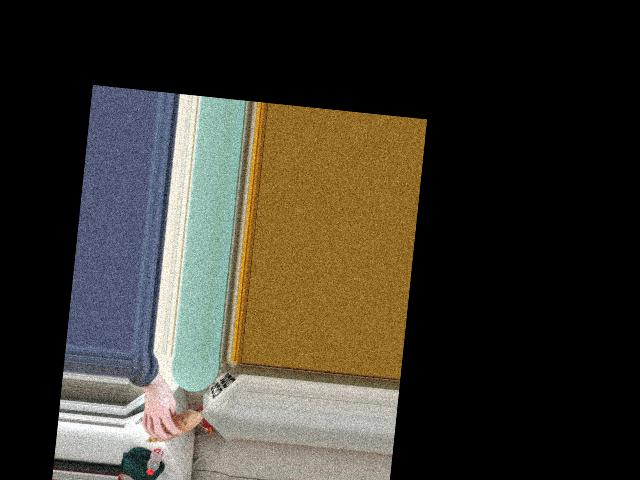sweet_potato: (143, 404, 201, 445)
